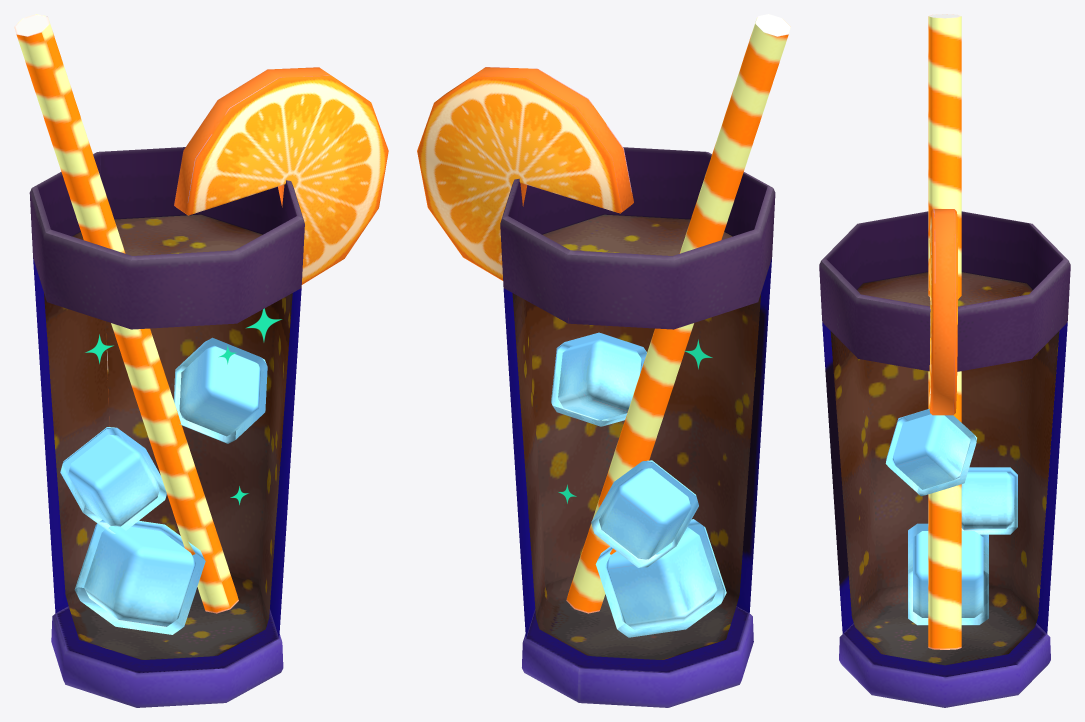
The model's file is Negroni.glb.
3 views of the same model, side by side, from view 1: azimuth 30°, elevation 25°; view 2: azimuth 150°, elevation 25°; view 3: azimuth 270°, elevation 25° (orthographic). The views are drawn at different scales.
Visible parts, largest first — view 1: Negroni; view 2: Negroni; view 3: Negroni.
Part boxes in pixels (box(x1,y1,x2,y2)): Negroni: box(14, 14, 388, 707); Negroni: box(417, 14, 790, 707); Negroni: box(819, 14, 1070, 707).
Bounding box in the file's own units: 0.3586 × 0.6315 × 0.2416.
Materials: 2 (2 with a texture image).
